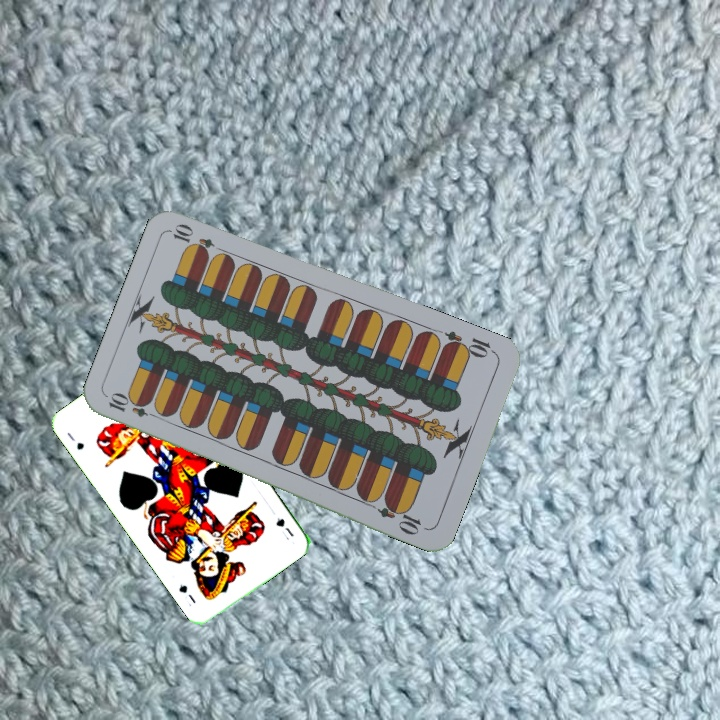E10: (439, 327, 498, 361), (104, 391, 163, 422)
GU: (63, 428, 87, 453), (273, 513, 296, 539)
